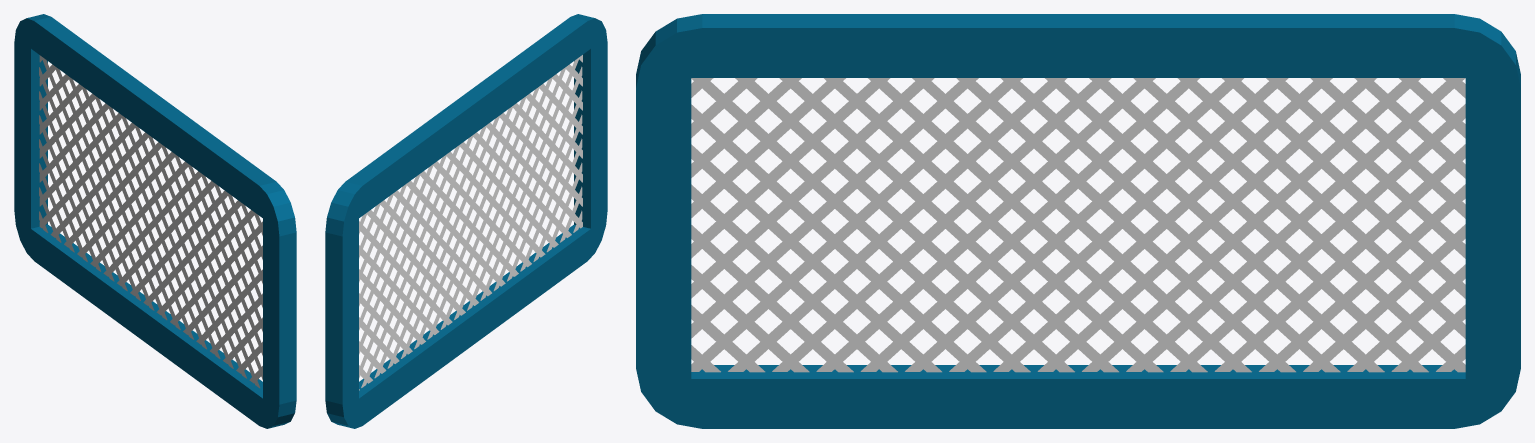
File: G01_016_FenceA.fbx
3 renders of one model, left to right at view 1: azimuth 30°, elevation 25°; view 2: azimuth 150°, elevation 25°; view 3: azimuth 270°, elevation 25°, orthographic. The views are drawn at different scales.
Visible parts, largest first — view 1: 001_Fence_B, 平面.056, 平面.057, 平面.033, 平面.032; view 2: 001_Fence_B, 平面.056, 平面.057, 平面.032, 平面.033; view 3: 001_Fence_B, 平面.032, 平面.033, 平面.057, 平面.056.
Part boxes in pixels (left/top/right/bottom): 001_Fence_B: left=14, top=14, right=296, bottom=428; 平面.056: left=39, top=56, right=262, bottom=388; 平面.057: left=39, top=55, right=262, bottom=383; 平面.033: left=39, top=60, right=262, bottom=387; 平面.032: left=40, top=60, right=260, bottom=379; 001_Fence_B: left=325, top=14, right=607, bottom=428; 平面.056: left=359, top=55, right=582, bottom=390; 平面.057: left=359, top=58, right=582, bottom=387; 平面.032: left=360, top=60, right=581, bottom=387; 平面.033: left=359, top=58, right=582, bottom=382; 001_Fence_B: left=636, top=14, right=1520, bottom=428; 平面.032: left=691, top=78, right=1465, bottom=372; 平面.033: left=691, top=78, right=1465, bottom=371; 平面.057: left=691, top=78, right=1465, bottom=371; 平面.056: left=691, top=81, right=1465, bottom=371.
Size of the model in its own units: 30 by 400 by 800.
